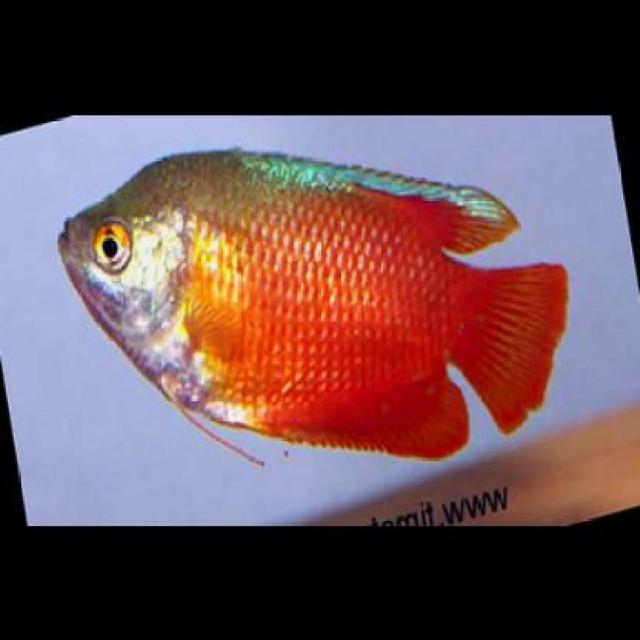Gourami: (57, 146, 577, 454)
